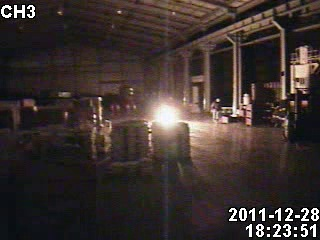fire: (151, 101, 179, 130)
